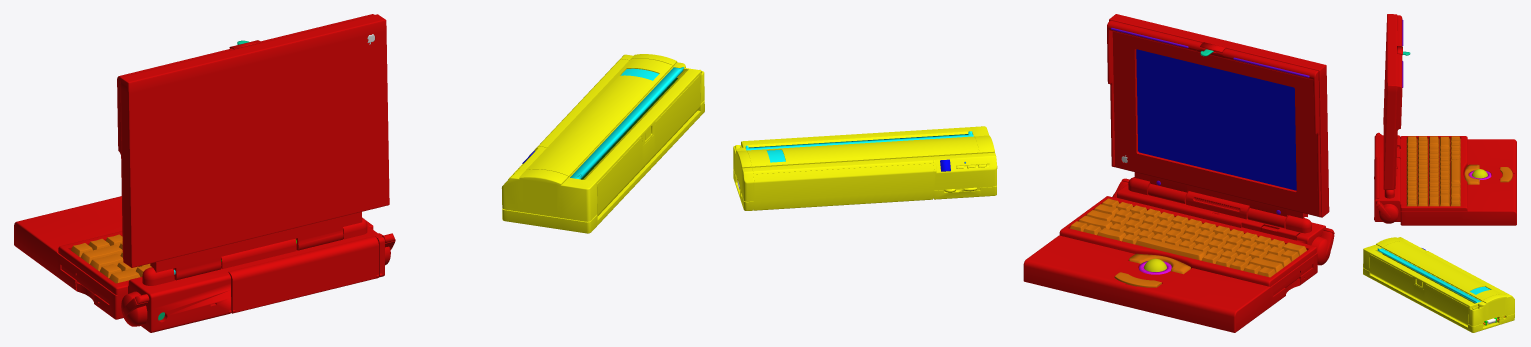
3 renders of one model, left to right at view 1: azimuth 30°, elevation 25°; view 2: azimuth 150°, elevation 25°; view 3: azimuth 270°, elevation 25°, orthographic. The views are drawn at different scales.
Parts seen in each view (by area): view 1: MIM_1595, MIM_1595_drukarka; view 2: MIM_1595, MIM_1595_drukarka; view 3: MIM_1595, MIM_1595_drukarka.
Part boxes in pixels (x1,y1,x2,y2): MIM_1595: (14,14,395,332); MIM_1595_drukarka: (501,54,704,233); MIM_1595: (1023,14,1334,332); MIM_1595_drukarka: (733,126,997,210); MIM_1595: (1374,14,1516,225); MIM_1595_drukarka: (1363,237,1514,332).
Bounding box in the file's own units: 71.25 × 25.72 × 25.49.
